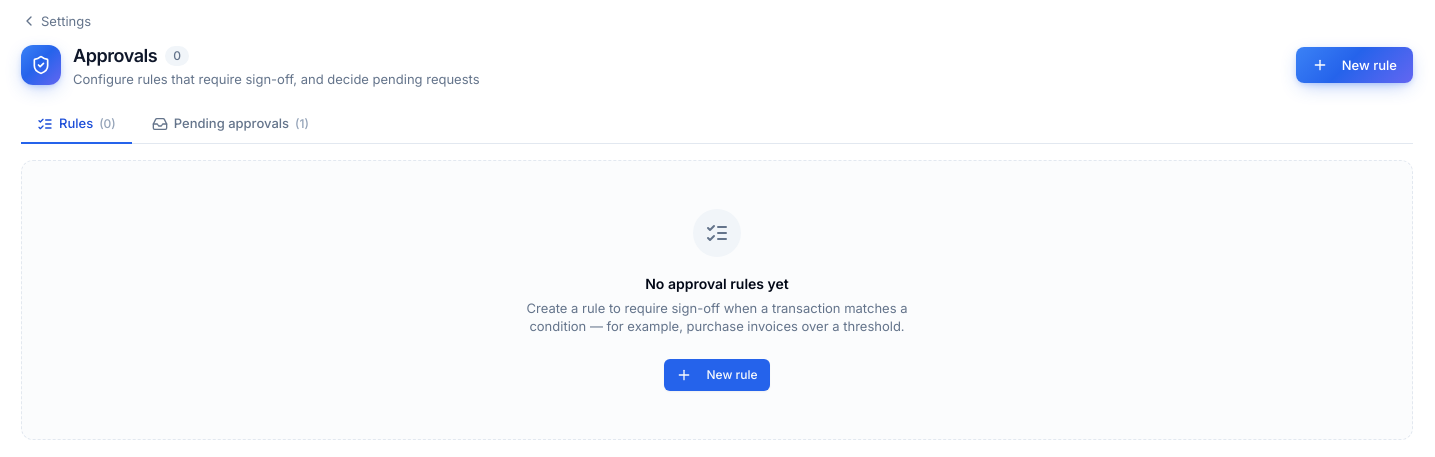
Test: ApprovalsView › hides approve/reject when the user cannot decide
The width and height of the screenshot is (1435, 457).
Click the tab "Pending approvals(1)" at point(230, 124), box [136,104,325,144]
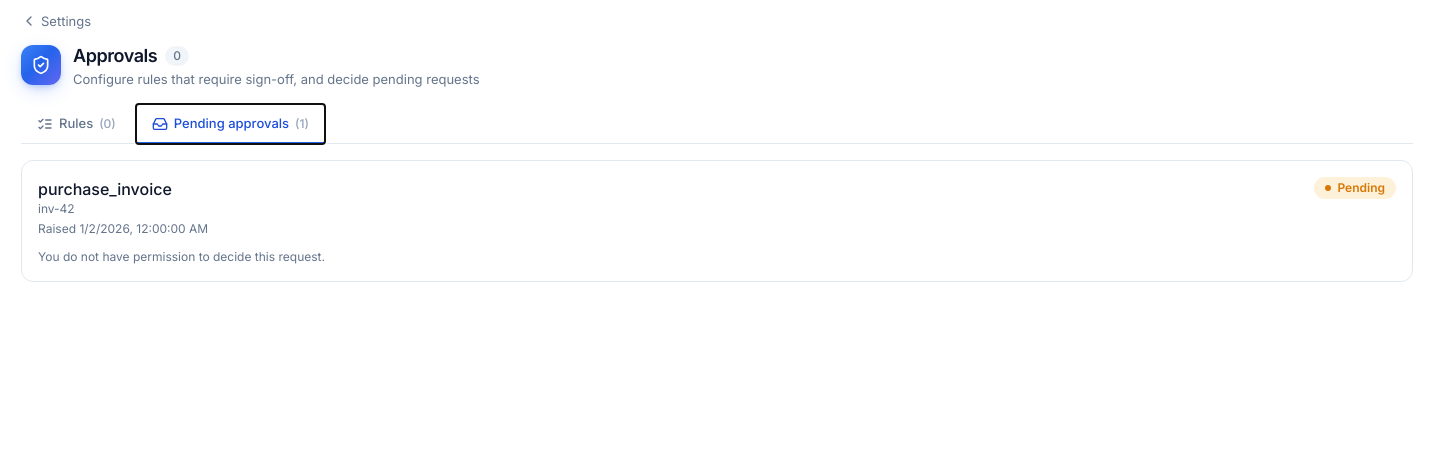
Check: the text "You do not have permission to decide this request." is shown, box [38,250,325,264]
